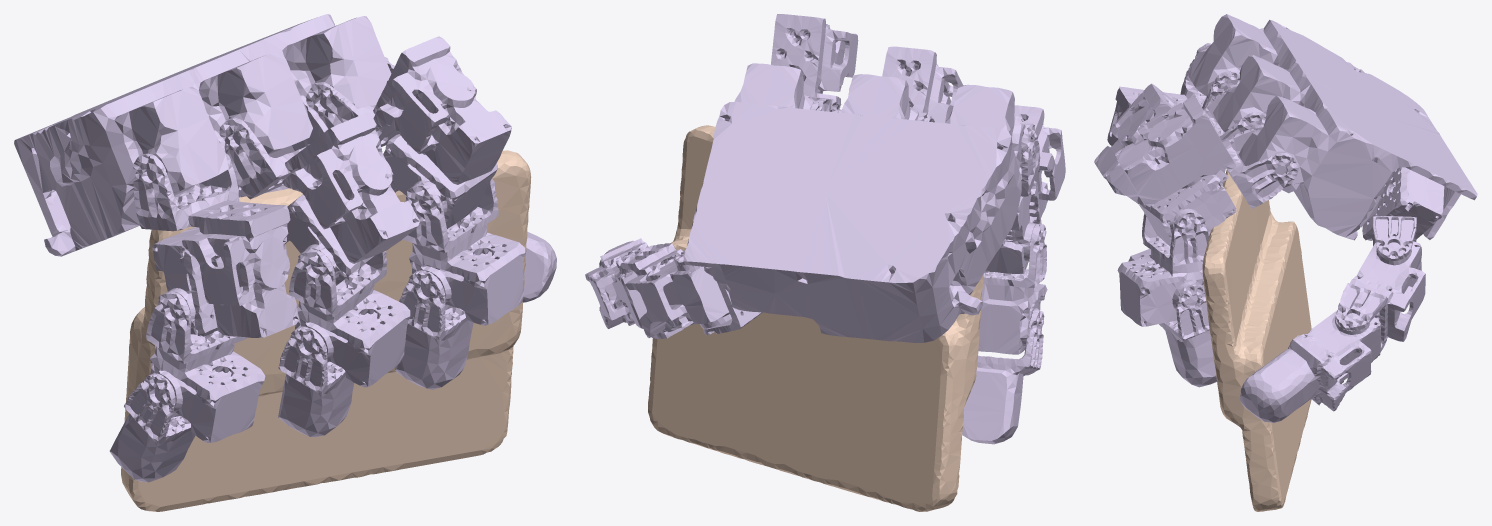
The model's file is 376270dcf8c7b7-closed.glb.
3 views of the same model, side by side, from view 1: azimuth 30°, elevation 25°; view 2: azimuth 150°, elevation 25°; view 3: azimuth 270°, elevation 25° (orthographic). The views are drawn at different scales.
Parts seen in each view (by area): view 1: LEAP_hand, world; view 2: LEAP_hand, world; view 3: LEAP_hand, world.
Boxes of the visible parts, x1=… form: LEAP_hand: x1=14, y1=14, x2=556, y2=482; world: x1=121, y1=150, x2=531, y2=511; LEAP_hand: x1=585, y1=14, x2=1065, y2=444; world: x1=648, y1=125, x2=983, y2=511; LEAP_hand: x1=1094, y1=14, x2=1477, y2=422; world: x1=1202, y1=170, x2=1311, y2=511.
Size of the model in its own units: 0.198 by 0.1876 by 0.1771.
